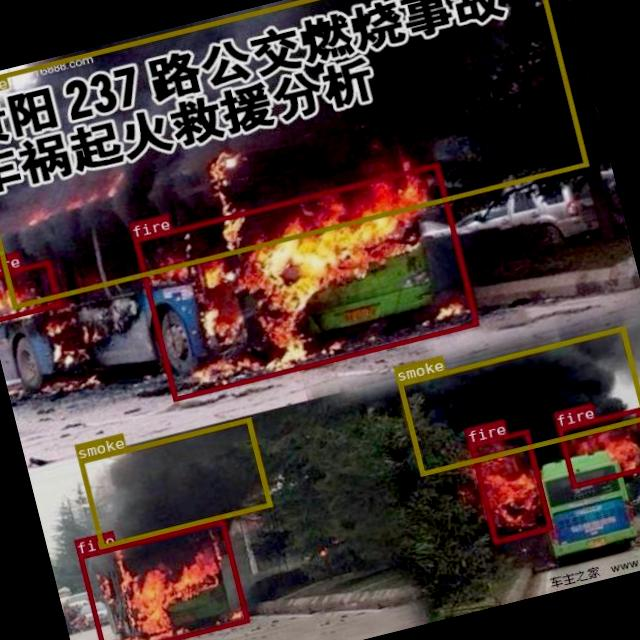fire: (132, 162, 477, 400), (77, 518, 248, 640), (468, 428, 551, 542), (556, 407, 640, 487), (0, 258, 60, 321)
smoke: (0, 0, 587, 308), (395, 325, 640, 476), (77, 416, 271, 548)
